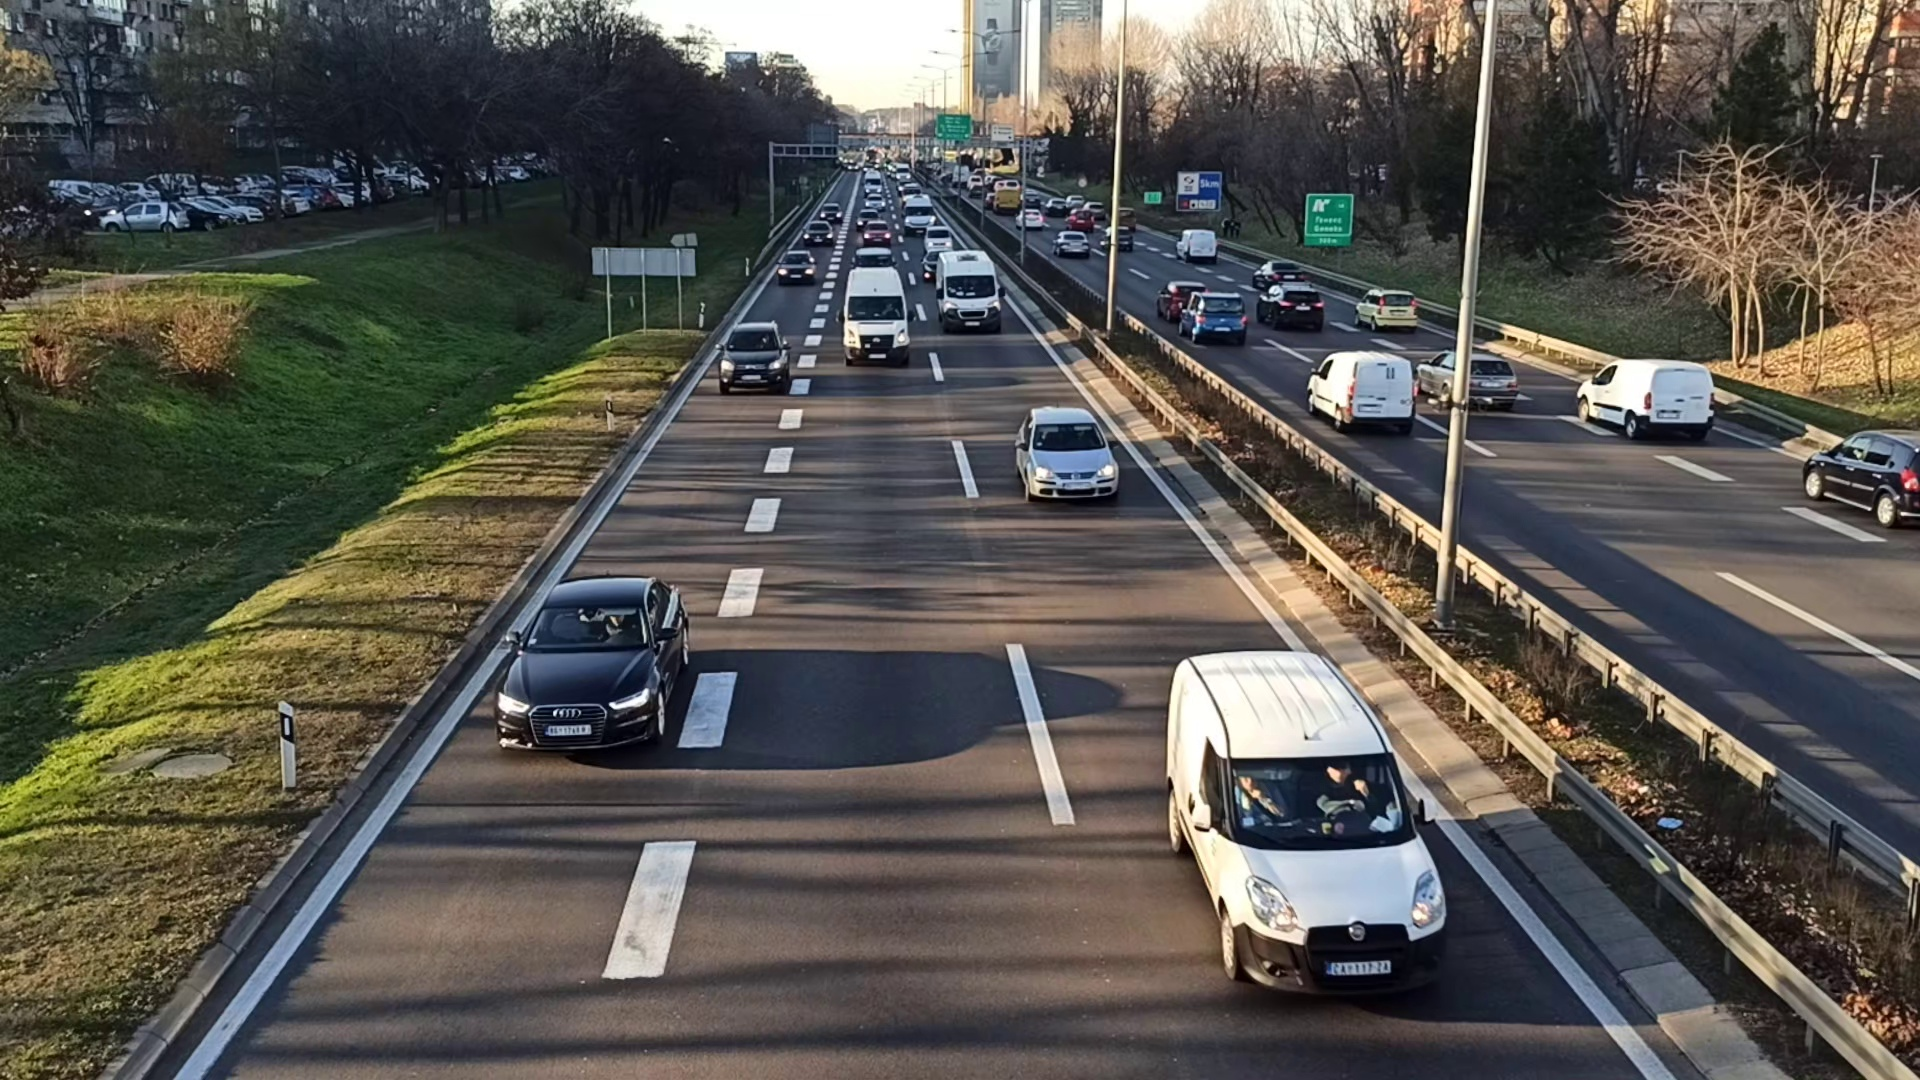car: (491, 575, 691, 760), (1803, 418, 1920, 529), (1013, 406, 1120, 520), (1418, 342, 1516, 414), (720, 319, 790, 394), (1185, 291, 1253, 344), (1255, 280, 1323, 328), (1354, 284, 1418, 330), (1160, 276, 1207, 316), (775, 249, 820, 287), (1250, 258, 1305, 287), (861, 220, 893, 247), (802, 218, 832, 244), (923, 222, 949, 251), (822, 200, 847, 222)
van: (1163, 651, 1455, 1005), (1578, 349, 1716, 446), (1305, 347, 1410, 433), (841, 266, 910, 371), (932, 249, 1001, 336), (1175, 225, 1218, 262), (901, 195, 934, 231)
